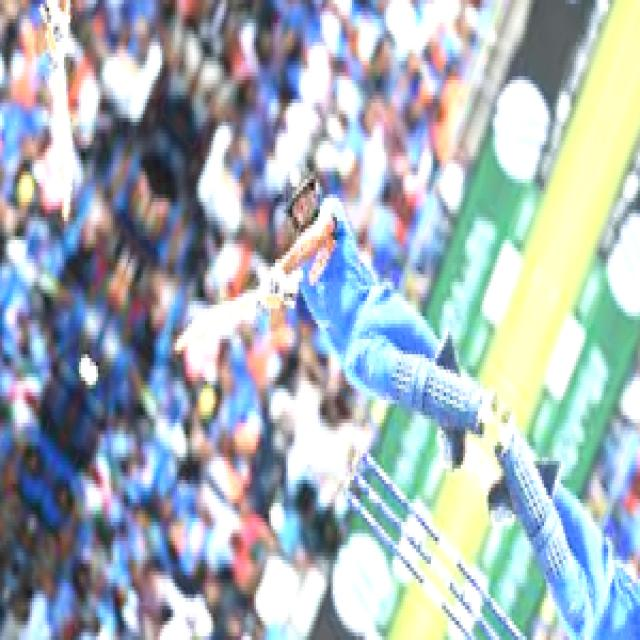toe: (167, 326, 197, 361)
